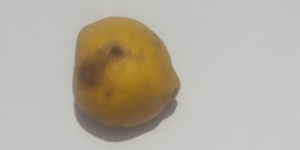BAD: (73, 17, 178, 128)
